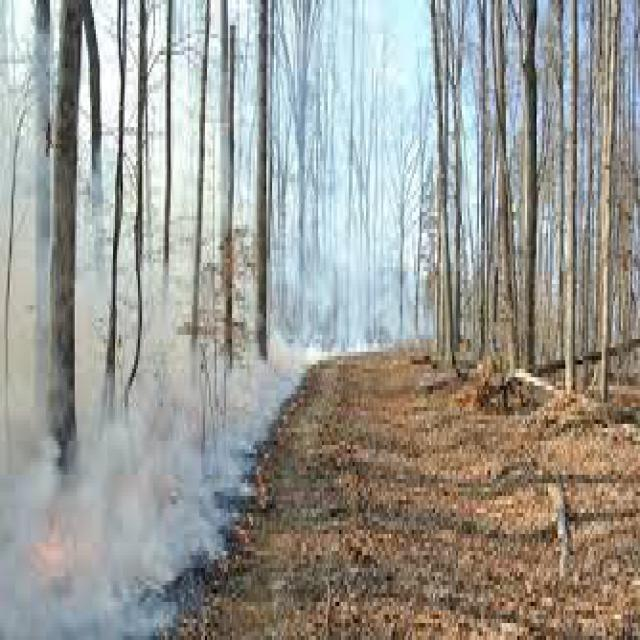smoke: (2, 229, 305, 631)
